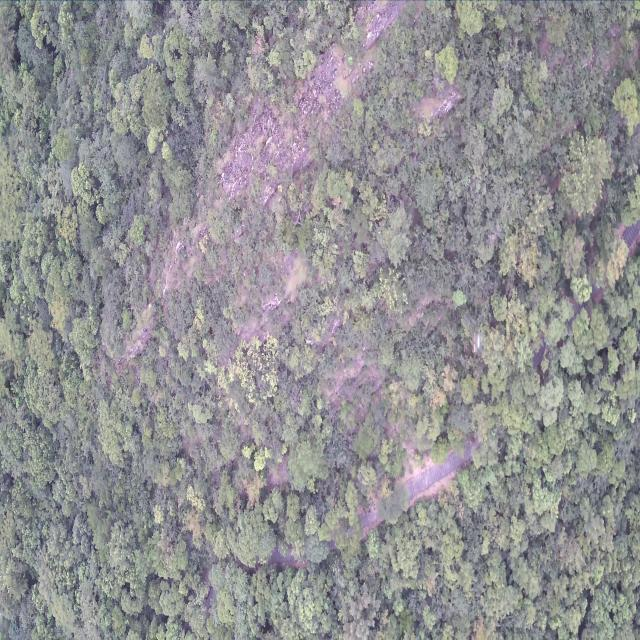UAV: (474, 332, 486, 354)
